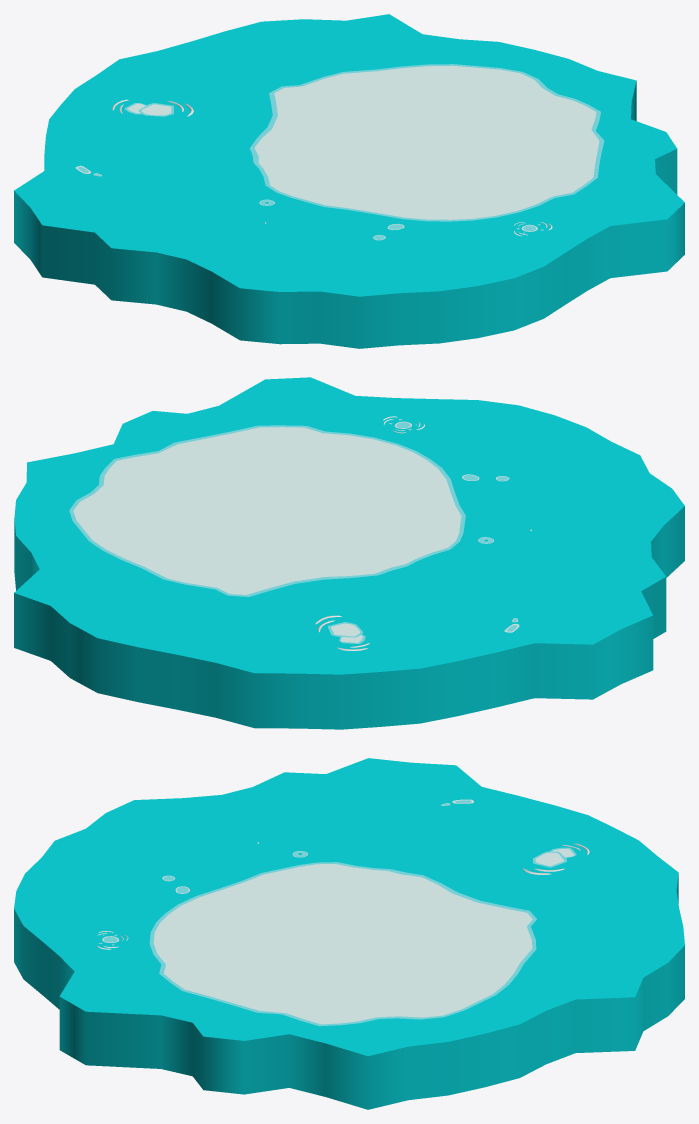
Rendered from Water_01.fbx.
3 renders of one model, top to bottom at view 1: azimuth 30°, elevation 25°; view 2: azimuth 150°, elevation 25°; view 3: azimuth 270°, elevation 25°, orthographic. The views are drawn at different scales.
Visible parts, largest first — view 1: Water_01; view 2: Water_01; view 3: Water_01.
Part boxes in pixels (x1,y1,x2,y2): Water_01: [14, 14, 684, 348]; Water_01: [14, 377, 684, 729]; Water_01: [14, 758, 684, 1109].
Size of the model in its own units: 5324 by 454 by 5063.
